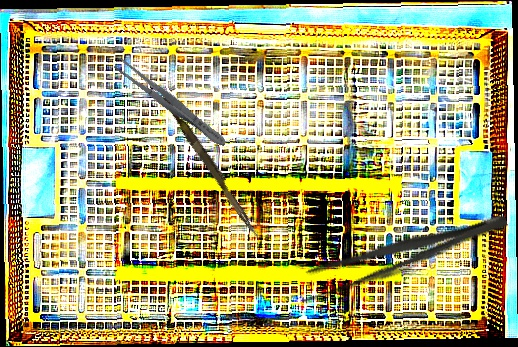Dressing Forceps: (291, 201, 513, 309), (111, 55, 231, 152)
Pusher: (158, 94, 266, 240)
